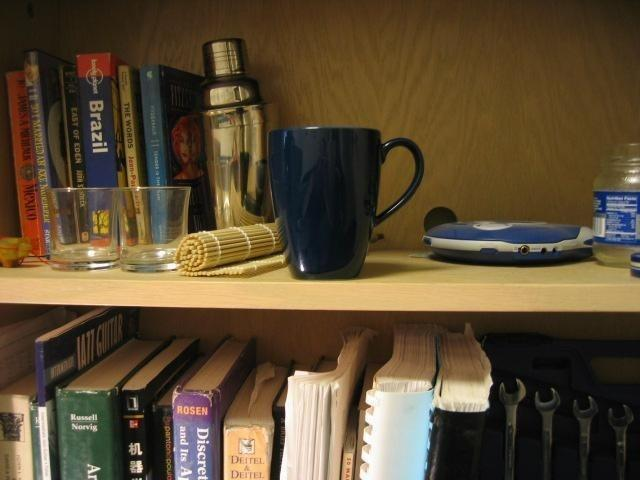cup-handle: (264, 124, 424, 279)
glass-normal: (116, 184, 196, 271), (41, 184, 121, 271)
gym bottle: (196, 37, 273, 234)
